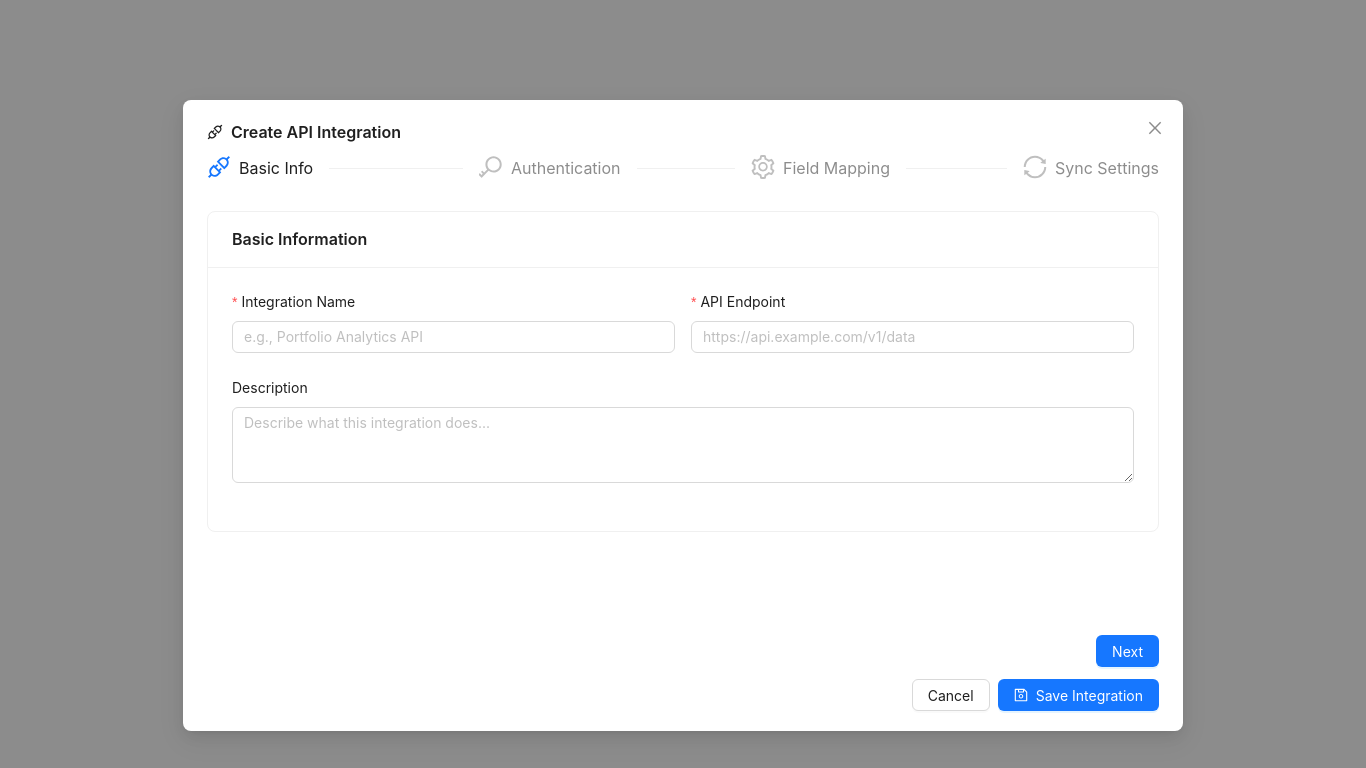
Test case: IntegrationSetup › Basic Information Step › requires integration name
The width and height of the screenshot is (1366, 768).
Click the button "Save Integration": {"x": 1078, "y": 695} left=998, top=679, right=1159, bottom=711
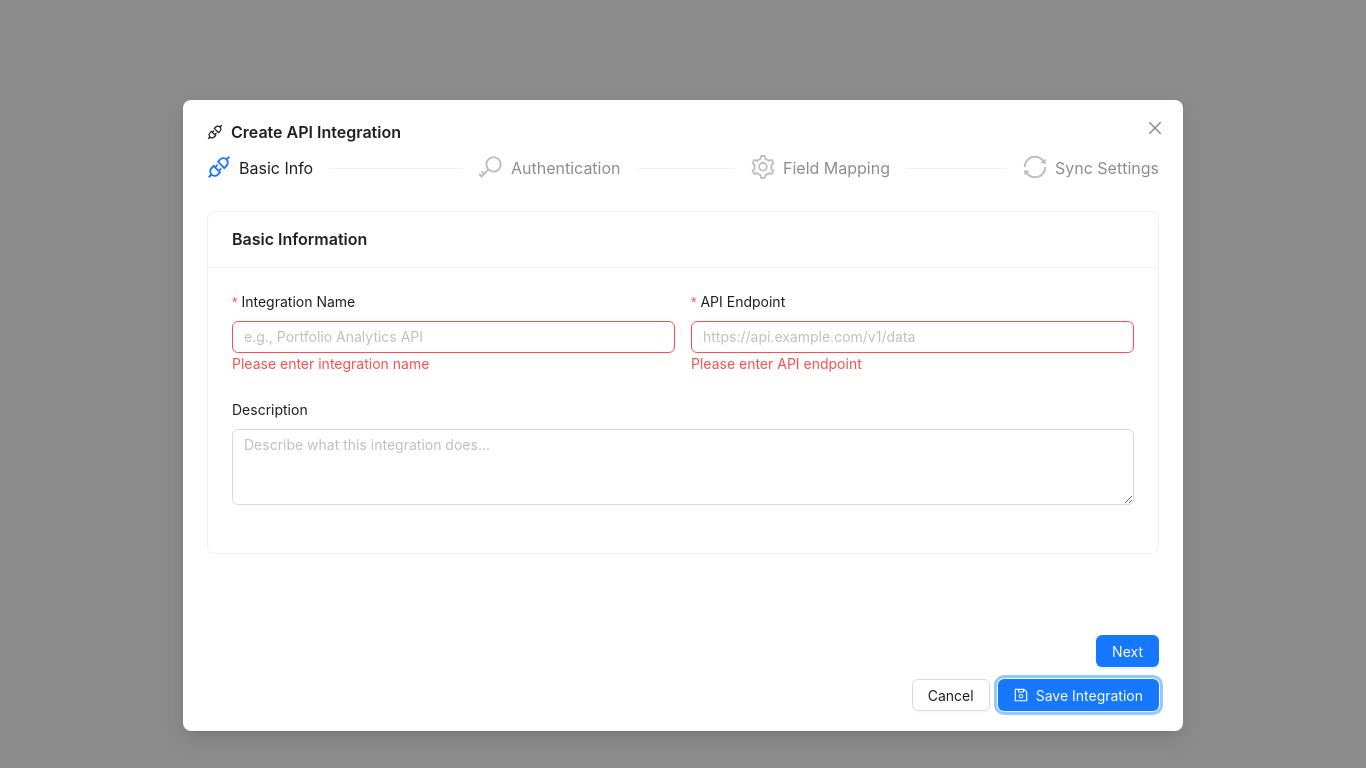
Check: the text "Please enter integration name" is shown, box left=232, top=355, right=429, bottom=372
